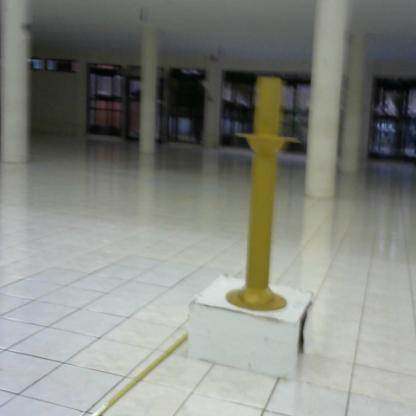pole: (223, 69, 306, 315)
